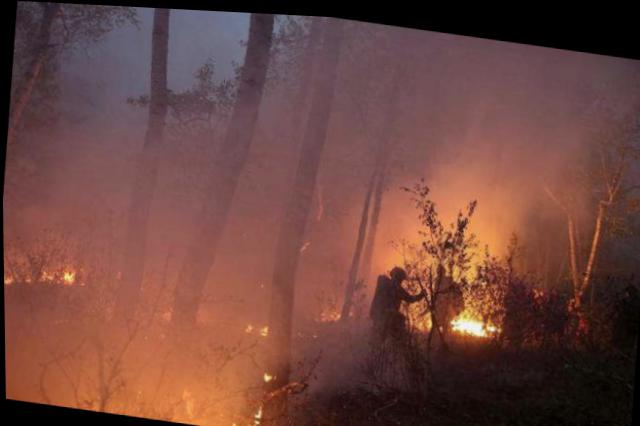fire: (229, 301, 295, 423), (3, 242, 80, 294), (443, 303, 500, 336), (316, 297, 346, 323)
